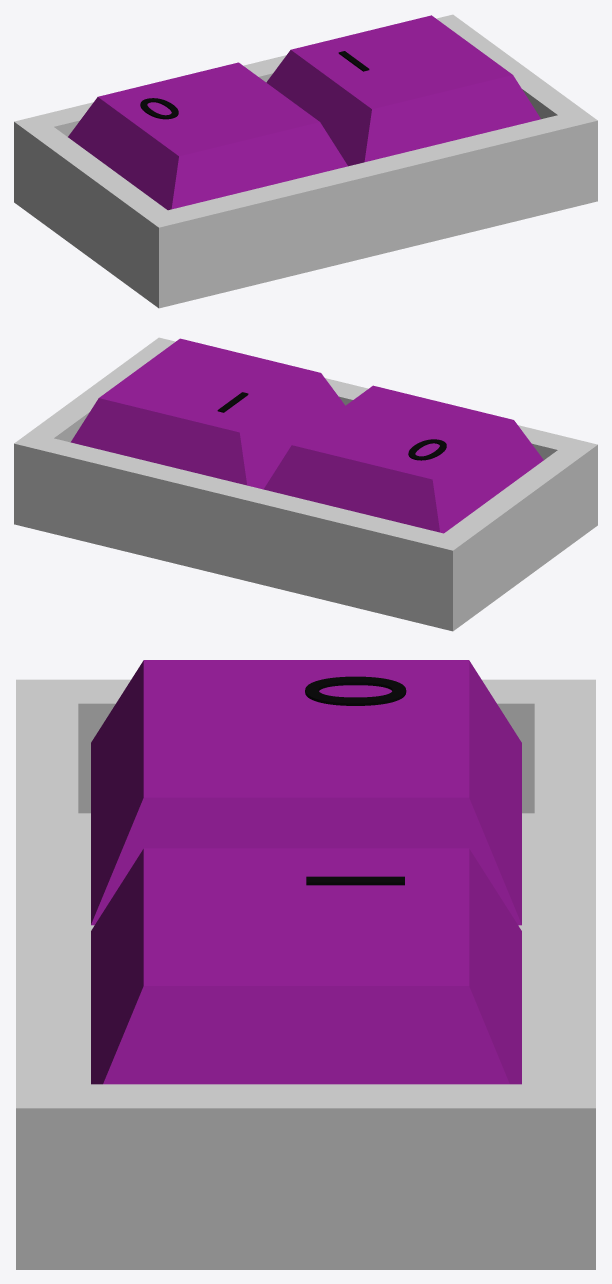
File: keyboard.glb
3 renders of one model, top to bottom at view 1: azimuth 30°, elevation 25°; view 2: azimuth 150°, elevation 25°; view 3: azimuth 270°, elevation 25°, orthographic. The views are drawn at different scales.
Visible parts, largest first — view 1: Planch, Touch0, Touch1, Text0; view 2: Planch, Touch0, Touch1, Text0; view 3: Planch, Touch1, Touch0, Text0, Text1.
Boxes of the visible parts, x1,y1,x2,y2 form: Planch: (14,14,597,308); Touch0: (68,62,347,210); Touch1: (266,15,540,166); Text0: (140,98,178,119); Planch: (14,337,597,631); Touch0: (263,385,543,533); Touch1: (70,338,345,489); Text0: (408,439,446,460); Planch: (16,679,595,1269); Touch1: (91,848,521,1084); Touch0: (91,660,521,925); Text0: (305,676,406,705); Text1: (306,876,404,885).
Bounding box in the file's own units: 7.03 × 1.8 × 4.02.
